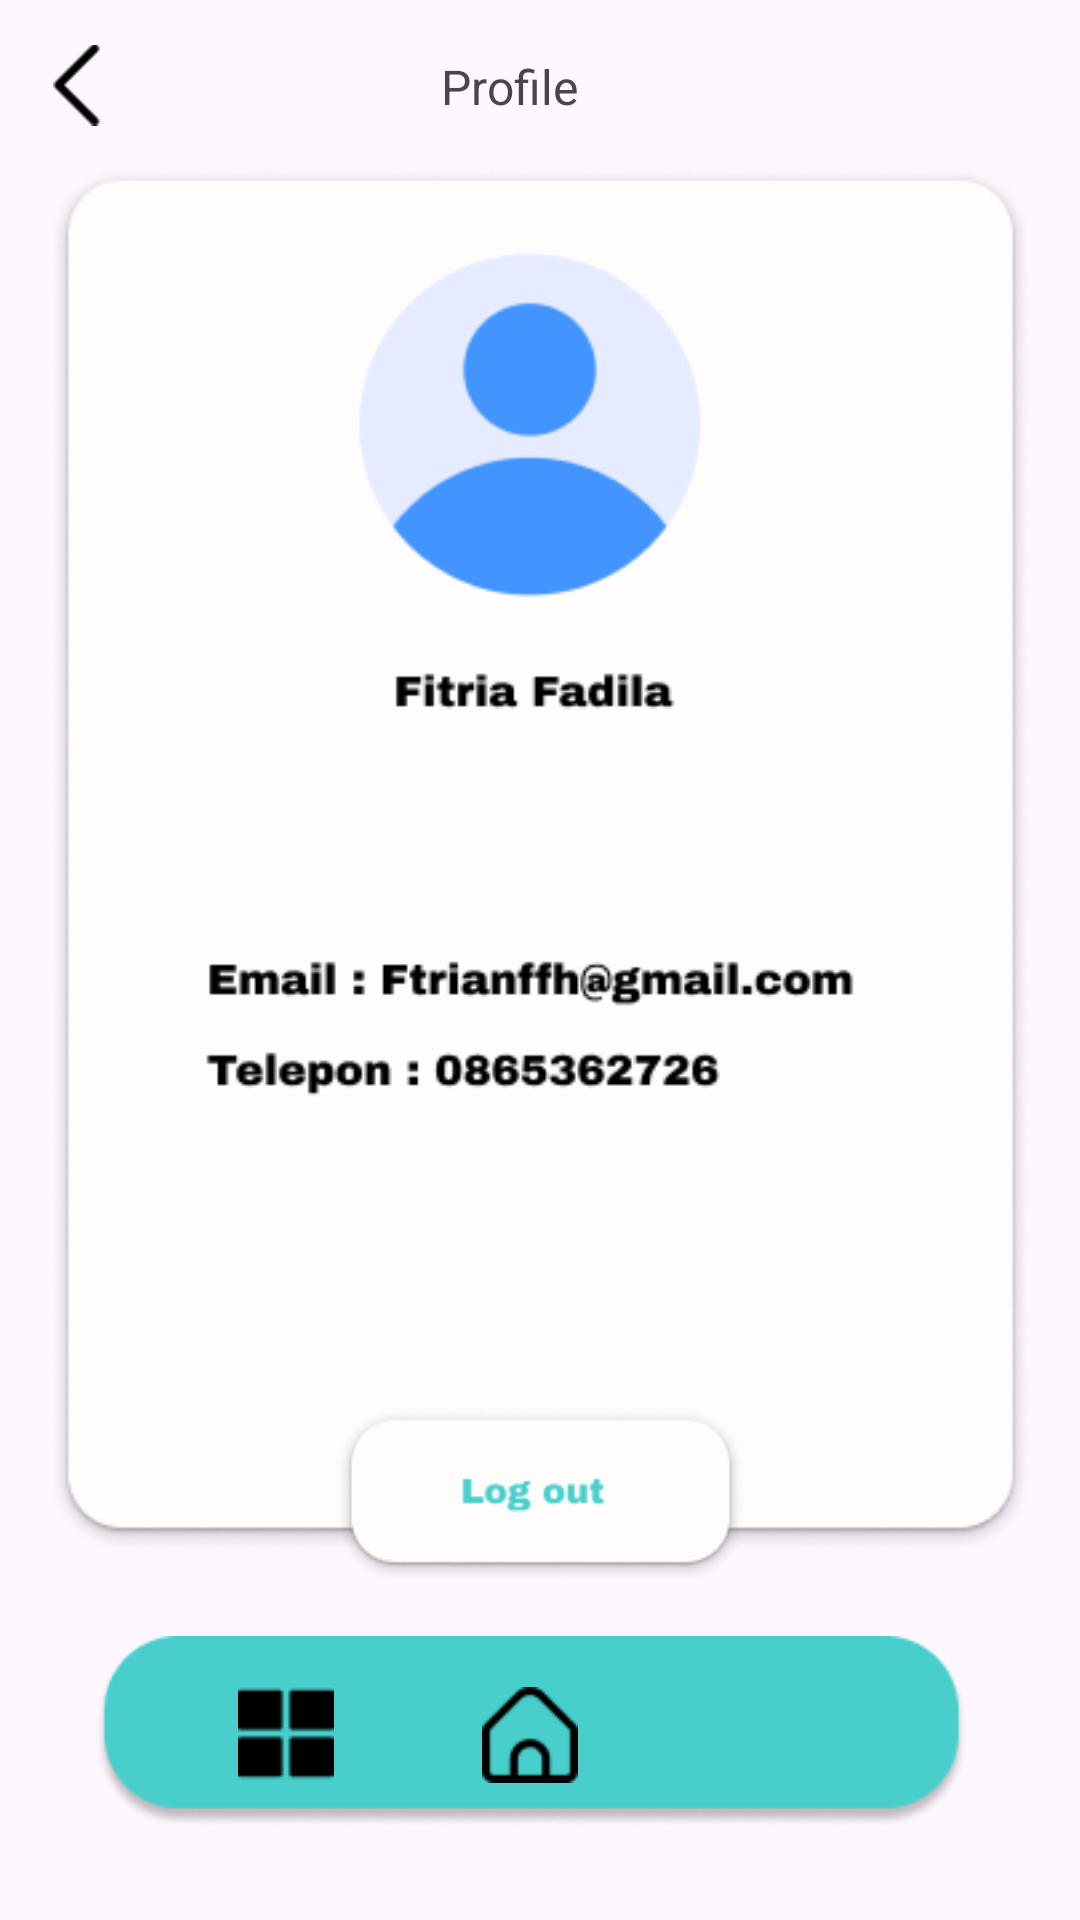

Where icons sit on this 1080x1920 app screen, as (x1, y1, x2, y2):
iconback: (53, 45, 100, 126)
